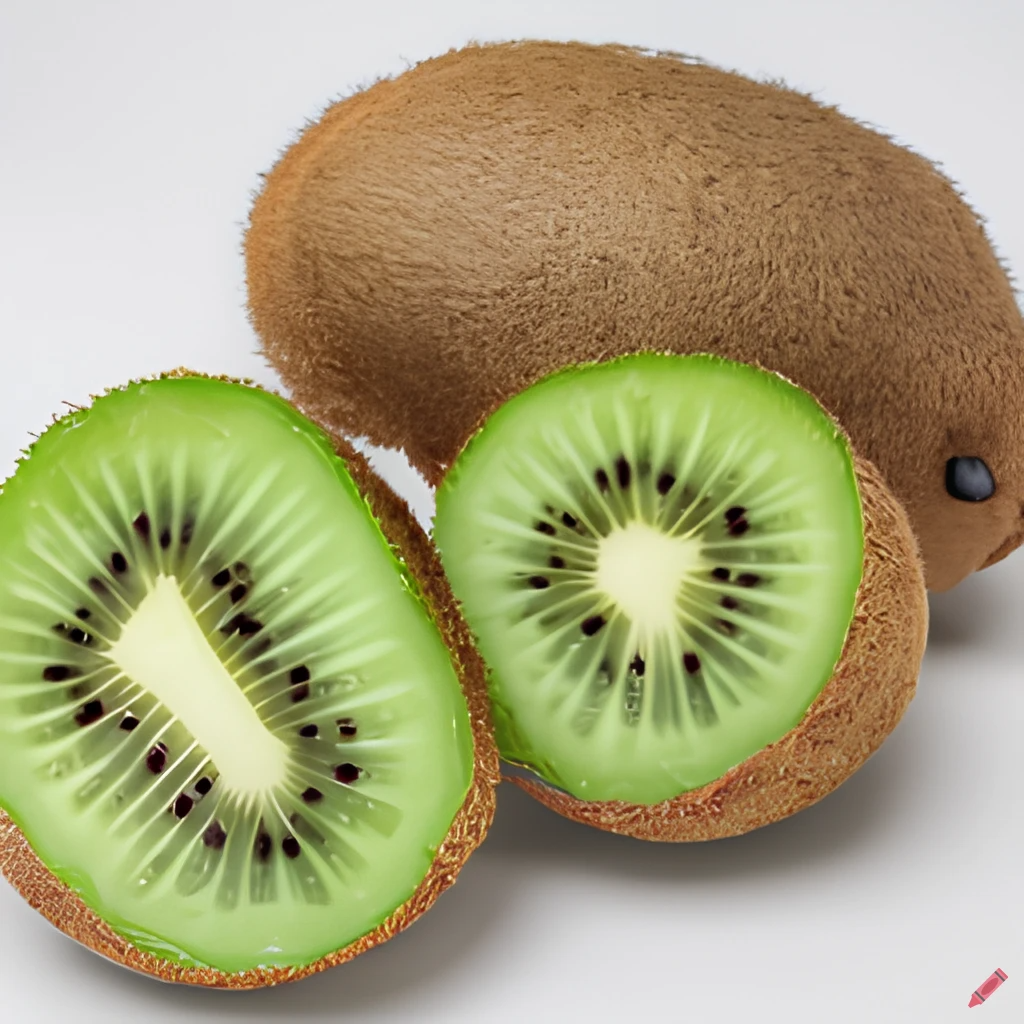Kiwi: (393, 341, 947, 848)
